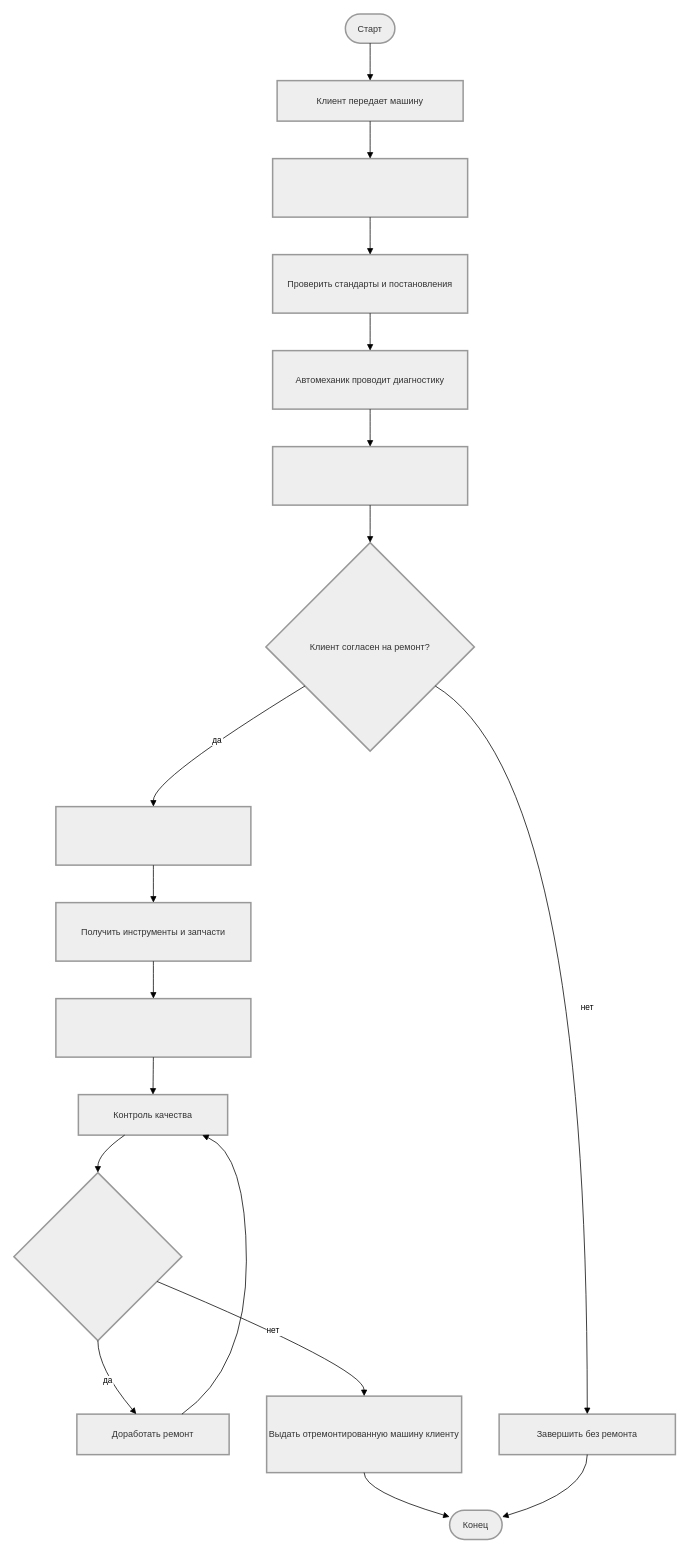
Image size: 689x1553. Some labels were removed from this diagram. Each missing label, with the centre of its shape:
Выполнить ремонт машины: the point at 153,1028
Дефекты обнаружены?: the point at 97,1256
Менеджер оформляет договор: the point at 370,188
Оформить заказ на запчасти и инструменты: the point at 153,836
Сформировать перечень работ и запчастей: the point at 370,476
